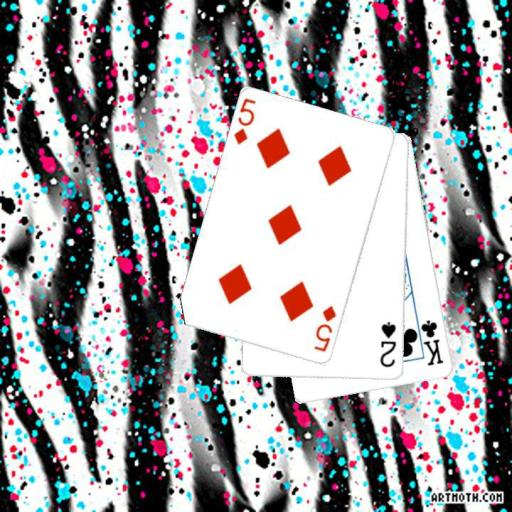2S: (377, 319, 398, 369)
5D: (311, 303, 338, 354), (231, 96, 258, 147)
KC: (413, 314, 445, 368)
